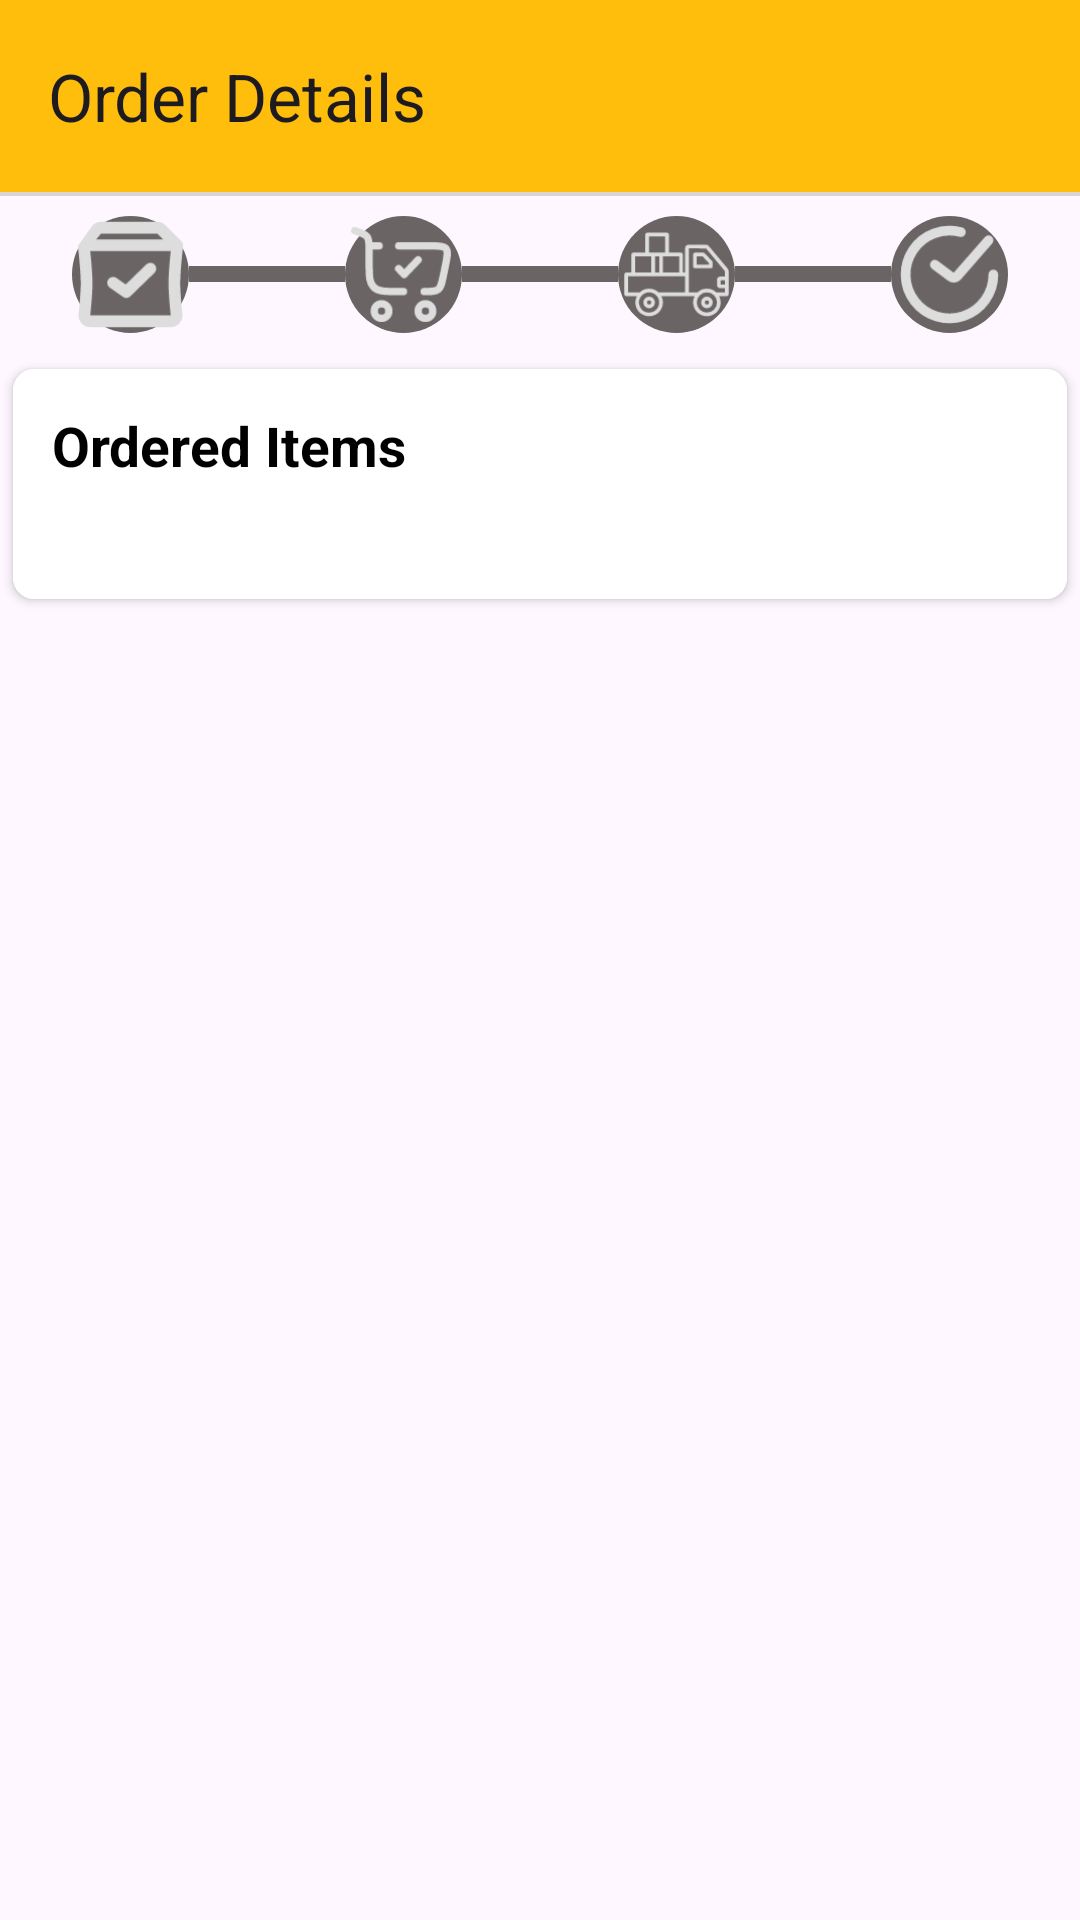

Screen size 1080*1920. Icon name, then its center in pixels as [x,y]:
del vehicle: [676,274]
done: [949,274]
